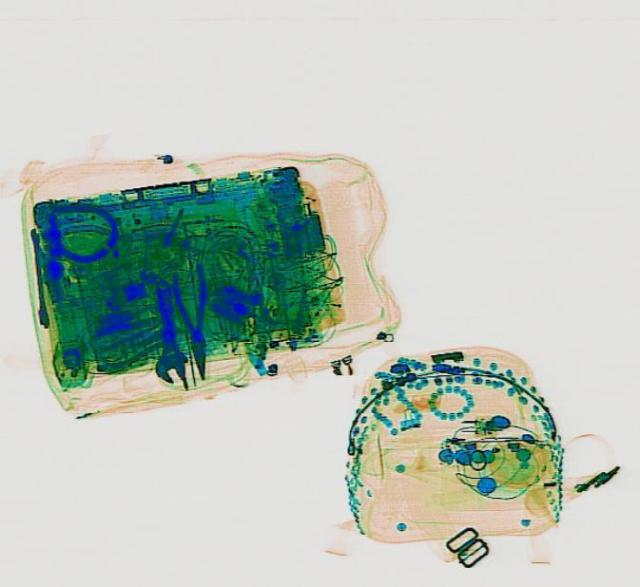Pliers: (167, 261, 221, 380)
Wrench: (141, 274, 189, 385), (26, 225, 49, 326)
